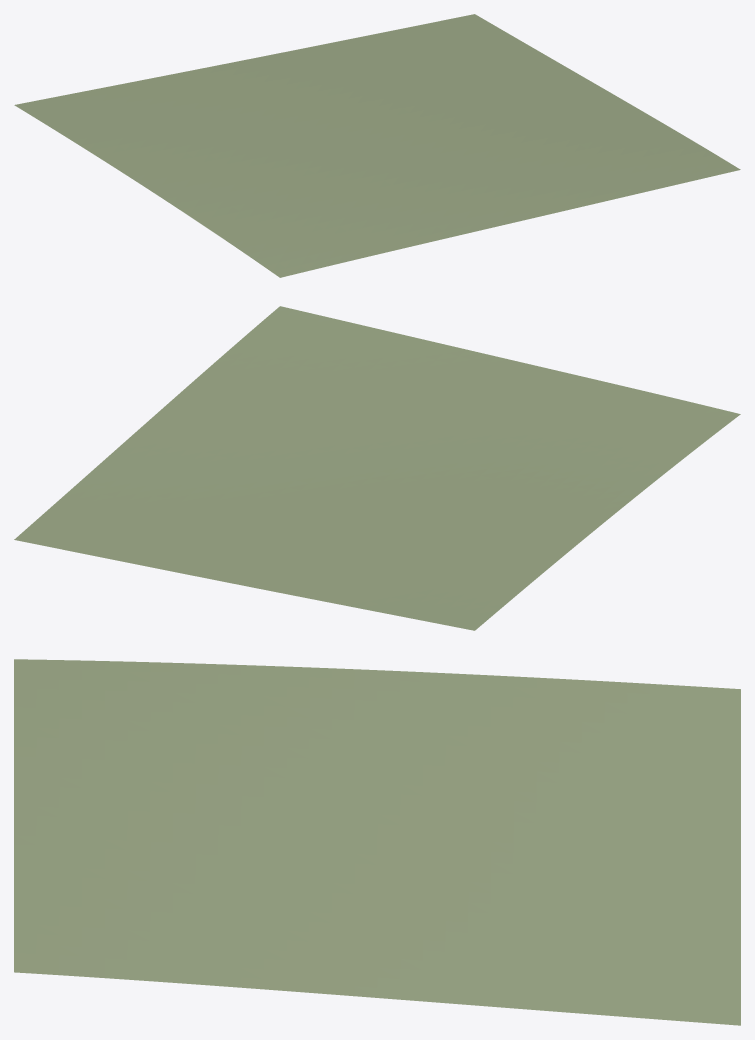
File: desert-3-26.glb
3 renders of one model, top to bottom at view 1: azimuth 30°, elevation 25°; view 2: azimuth 150°, elevation 25°; view 3: azimuth 270°, elevation 25°, orthographic. The views are drawn at different scales.
Parts seen in each view (by area): view 1: desert-3-26; view 2: desert-3-26; view 3: desert-3-26.
Part boxes in pixels (bbox=[...]): desert-3-26: bbox=[14, 14, 740, 277]; desert-3-26: bbox=[14, 306, 740, 630]; desert-3-26: bbox=[14, 659, 740, 1025].
Bounding box in the file's own units: 512 × 46.01 × 512.
